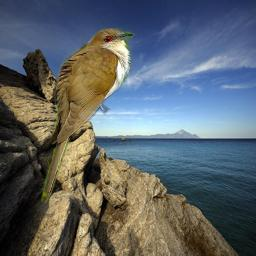Cuckoo: (40, 28, 135, 203)
